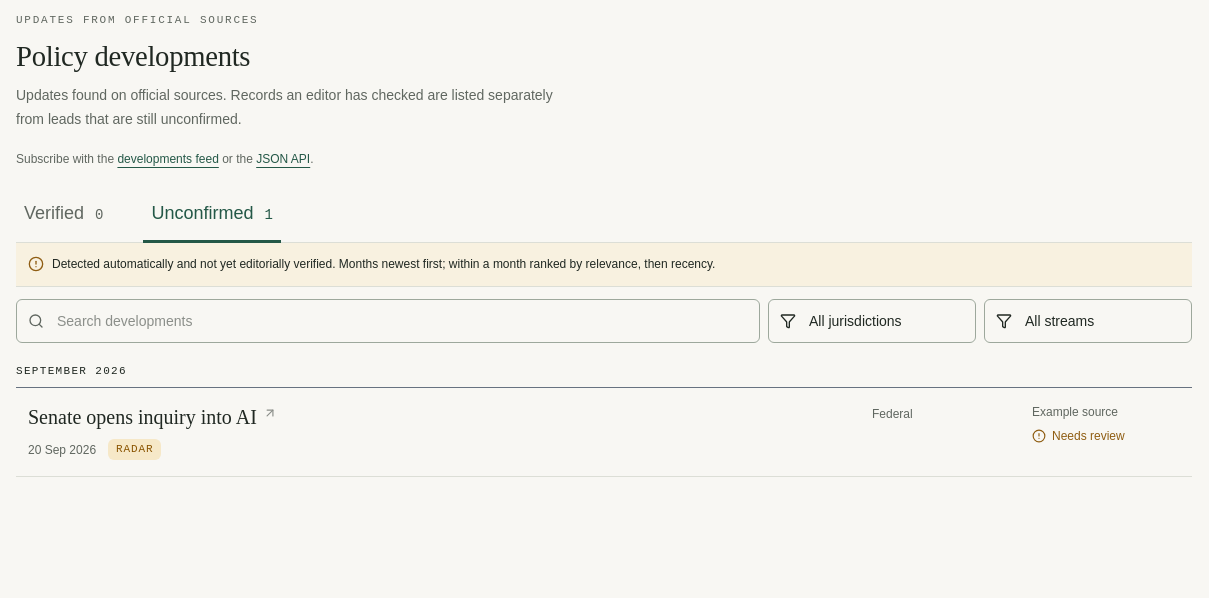
Test case: explains an empty filter result and offers a reset
Select "Courts and tribunals" in the 2nd dropdown named "Filter by stream" at (1088, 321), box [984,299,1192,343]
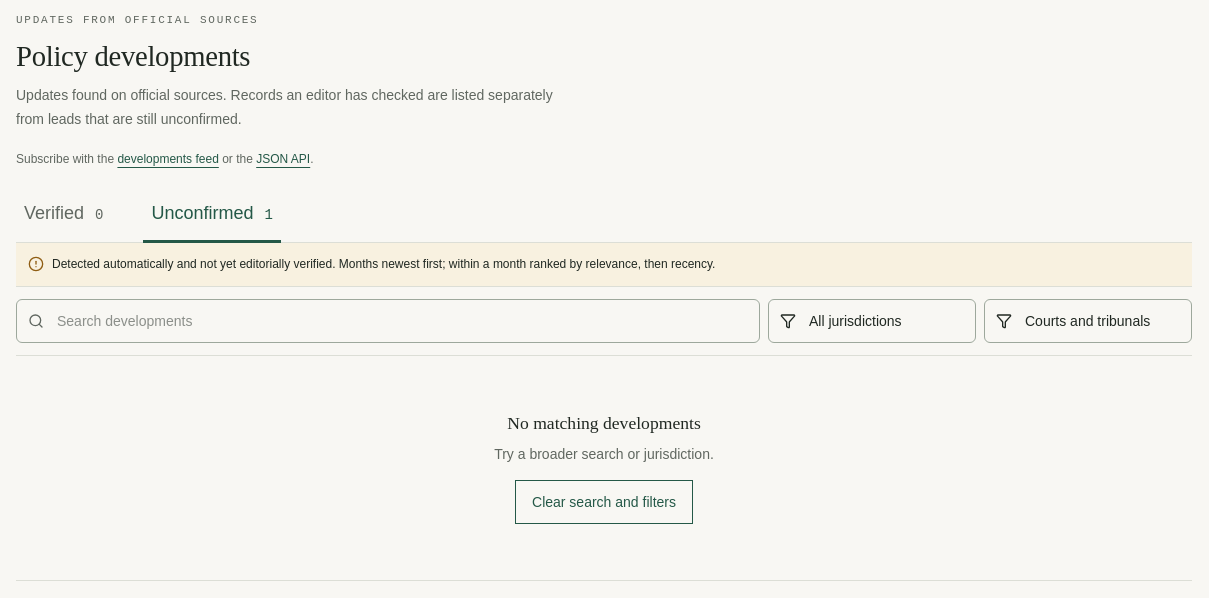
Type "nothing here" into the search field labelled "Search developments" at (388, 321), box [16,299,760,343]
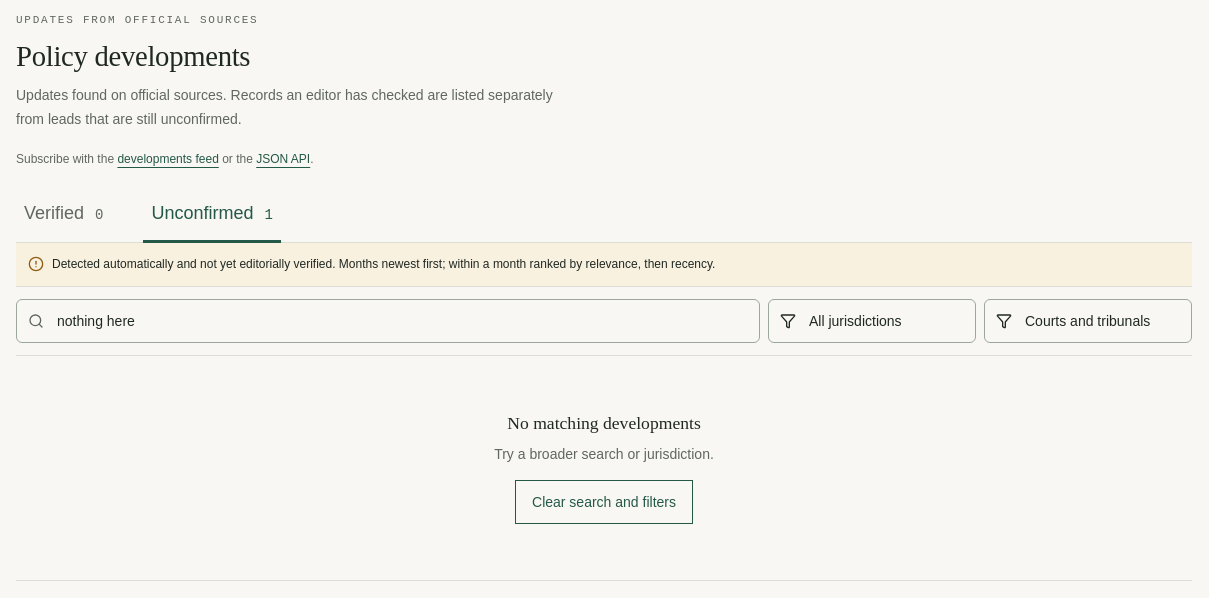
Check: the message shows "No matching developments", box [507,413,701,433]
Click the button "Clear search and filters" at (604, 502), box [515,480,693,524]
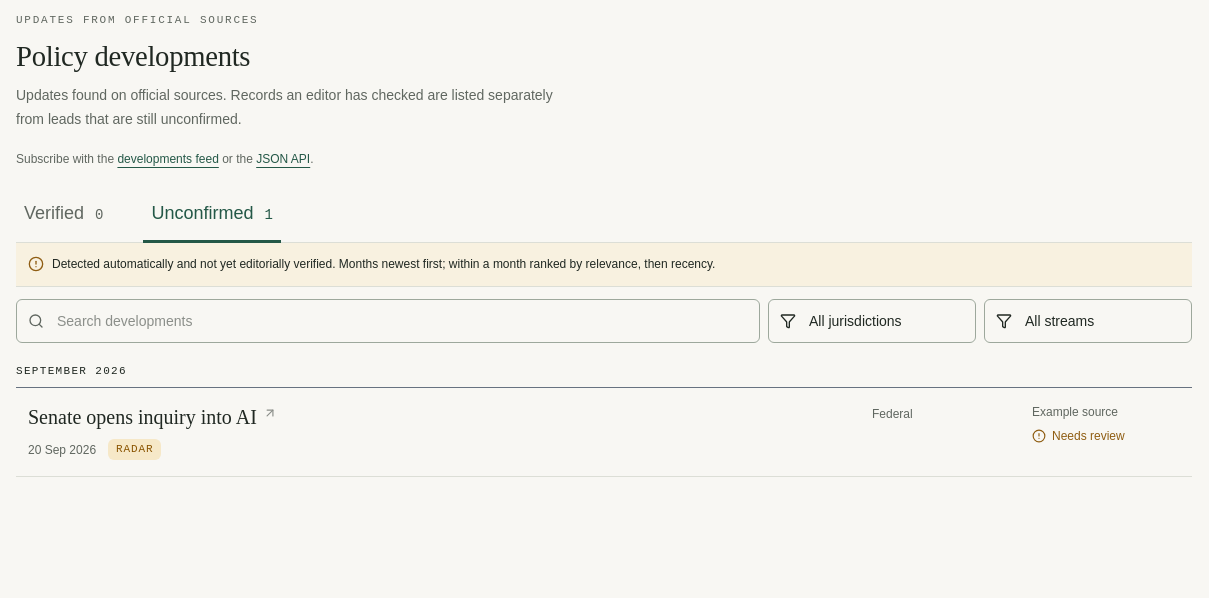
Check: the link "Senate opens inquiry into AI" is shown, box [28,404,277,430]
Check: the search field labelled "Search developments" is empty, box [16,299,760,343]
Check: the button "Clear search and filters" is gone
